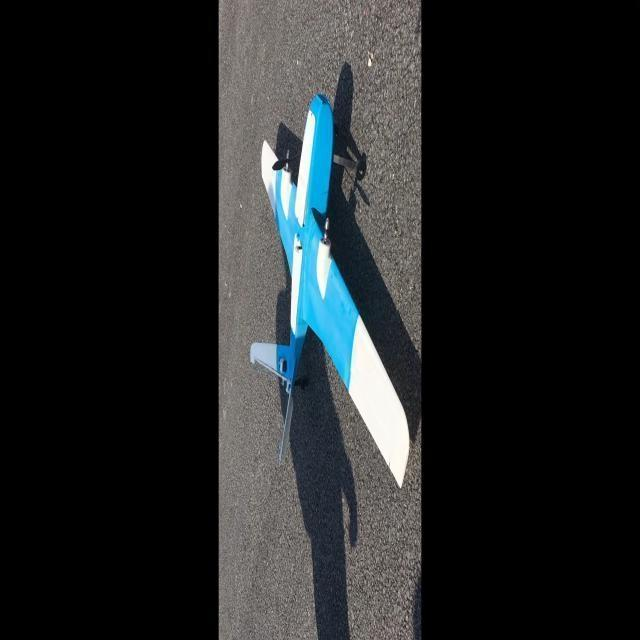Airplane: (237, 85, 420, 498)
